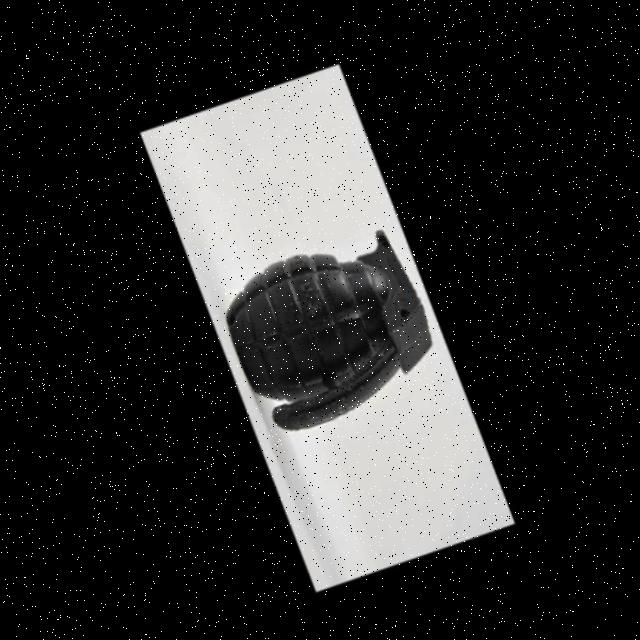grenade: (187, 189, 462, 452)
